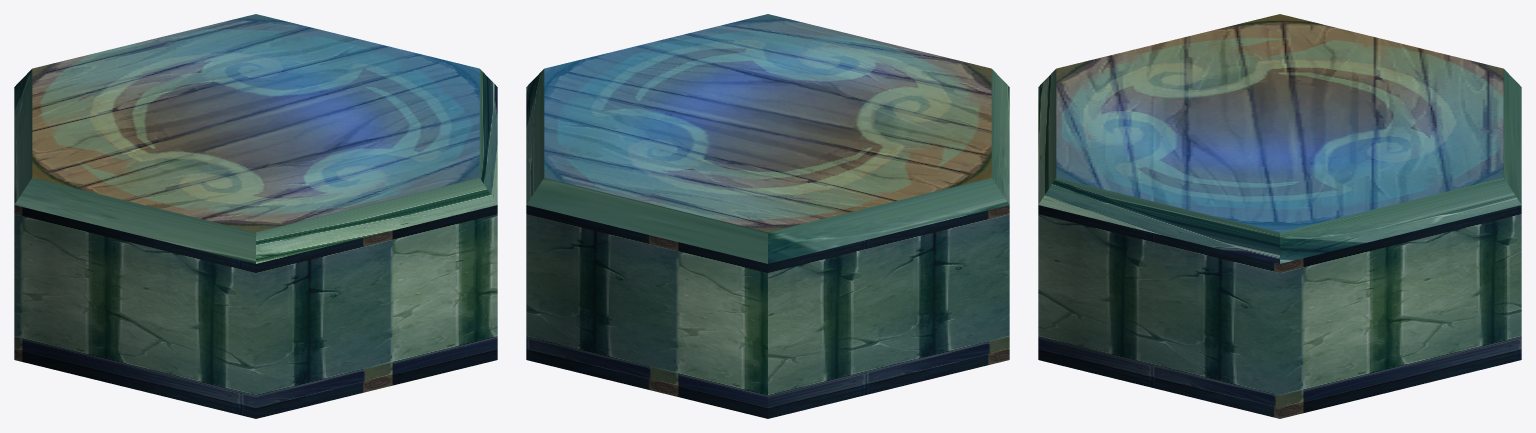
The model's file is 小酒馆格子.FBX.
3 views of the same model, side by side, from view 1: azimuth 30°, elevation 25°; view 2: azimuth 150°, elevation 25°; view 3: azimuth 270°, elevation 25° (orthographic).
Visible parts, largest first — view 1: Cylinder001; view 2: Cylinder001; view 3: Cylinder001.
Boxes of the visible parts, x1,y1,x2,y2 form: Cylinder001: (14,14,497,418); Cylinder001: (526,14,1009,418); Cylinder001: (1038,14,1521,418).
Size of the model in its own units: 158 by 55.53 by 137.
